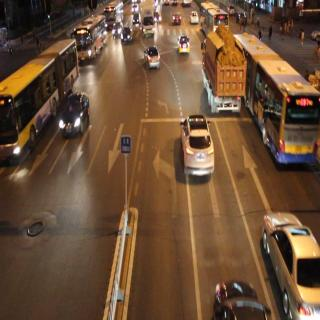BigCar: (242, 29, 319, 170), (2, 40, 75, 161), (202, 26, 247, 118), (76, 18, 108, 63), (139, 1, 158, 38)
Car: (264, 206, 320, 318), (179, 115, 213, 175), (61, 92, 90, 138), (144, 44, 160, 70), (177, 32, 191, 54), (120, 26, 133, 43), (173, 8, 182, 26), (131, 12, 140, 26), (190, 12, 198, 26)
